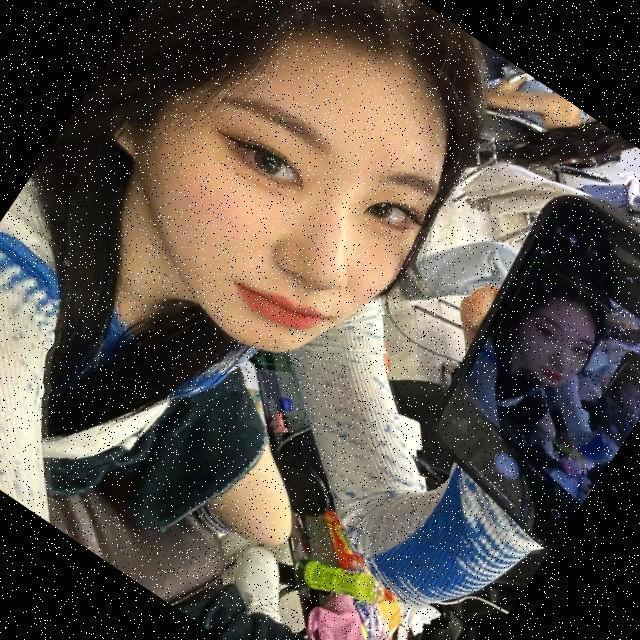phone: (432, 193, 640, 554)
